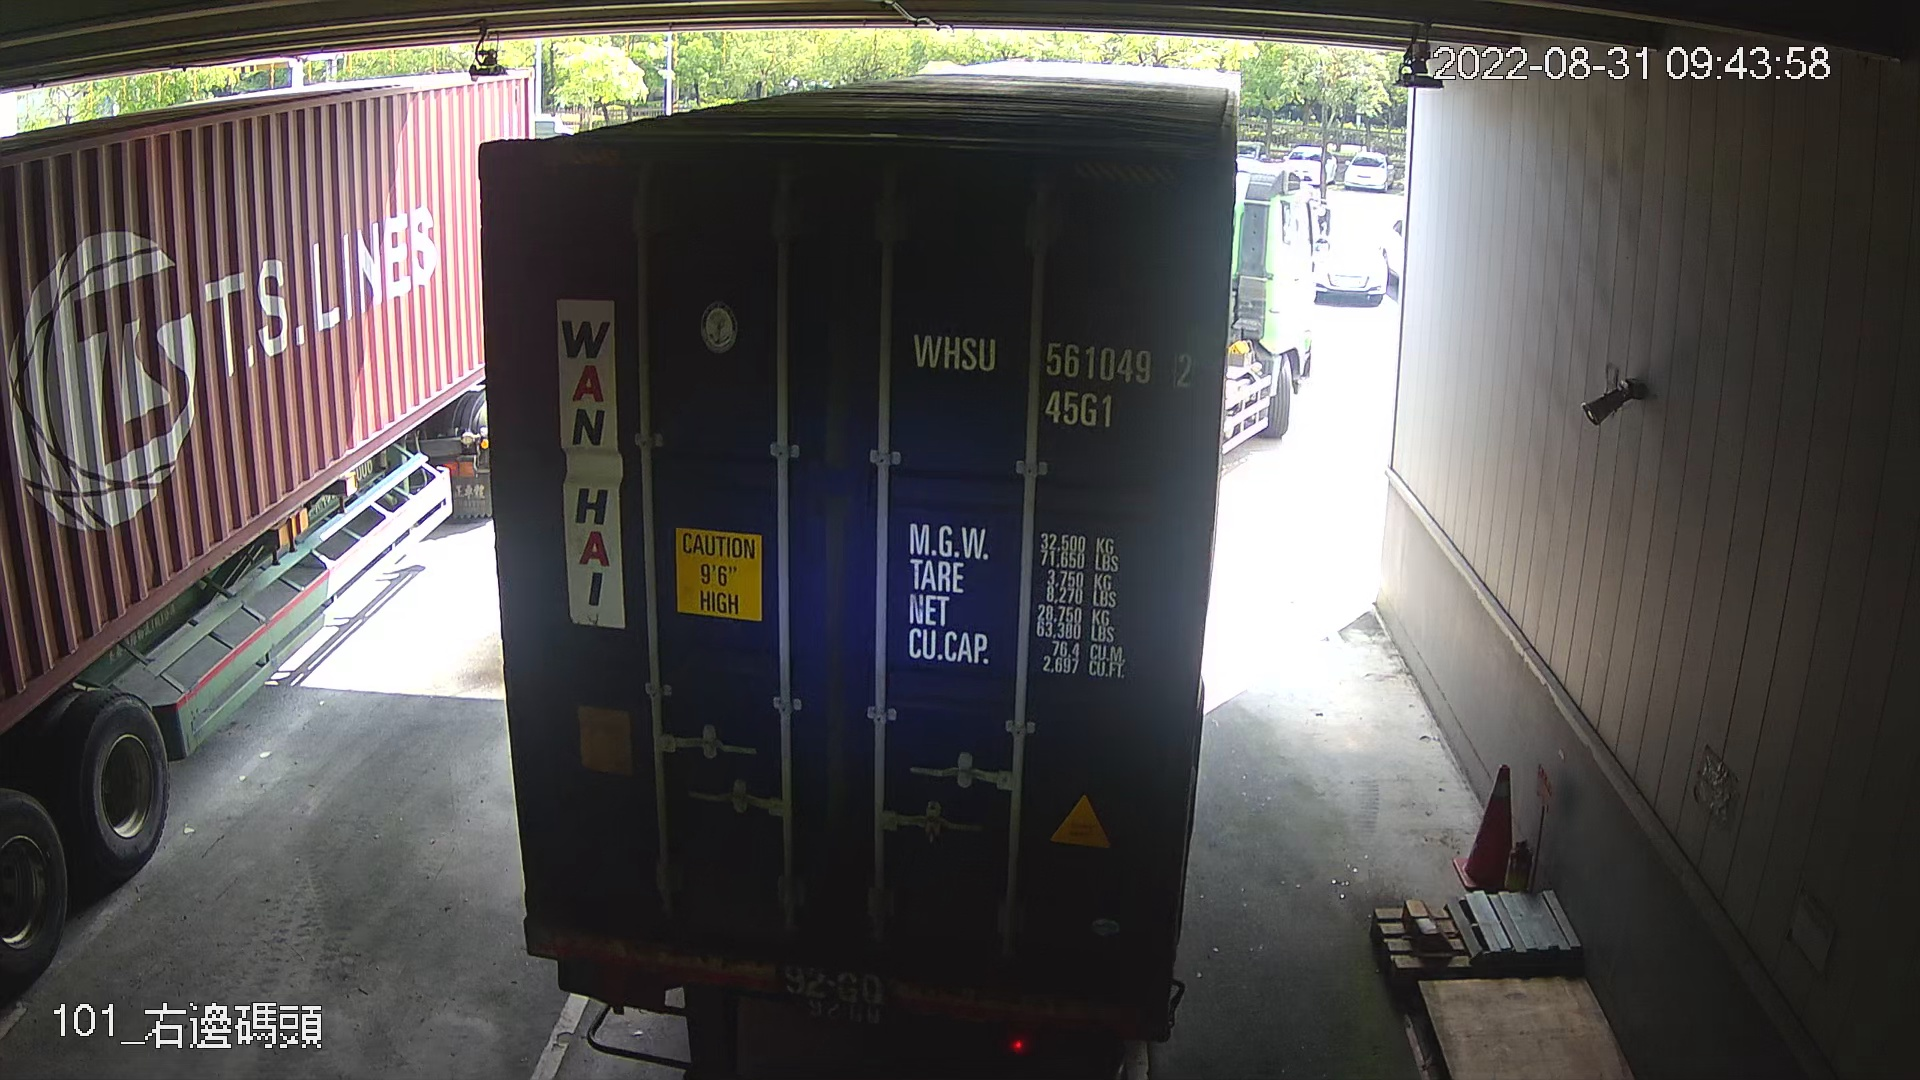container: (898, 322, 1201, 444)
